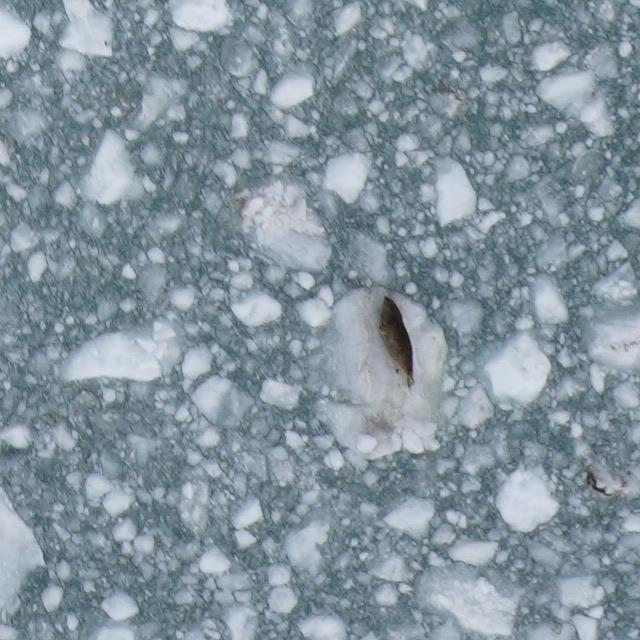seal: (373, 292, 418, 393)
